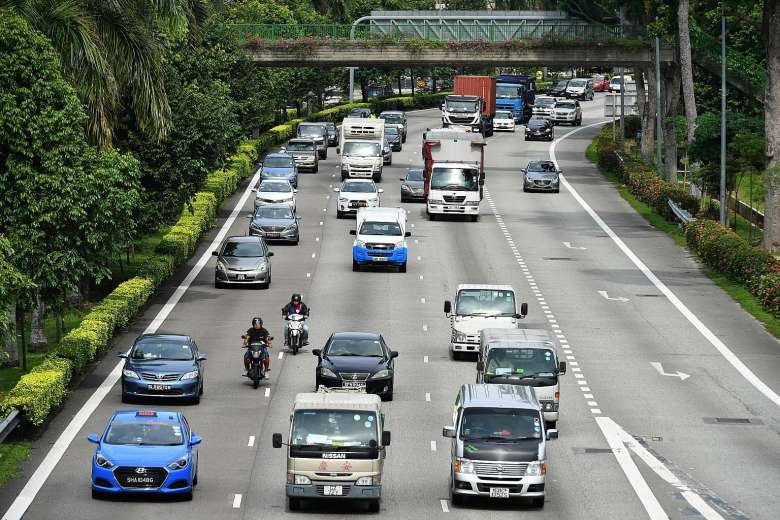car: (286, 400, 383, 505), (94, 407, 197, 504), (455, 398, 550, 502), (474, 338, 568, 429), (121, 334, 208, 404), (316, 334, 397, 401), (447, 289, 529, 355), (213, 238, 272, 293), (354, 218, 409, 276), (247, 204, 302, 246), (335, 175, 383, 219), (248, 180, 299, 217), (398, 165, 432, 206), (259, 152, 299, 186), (282, 141, 319, 174), (523, 161, 560, 193)
two_wheeler: (244, 316, 272, 389), (284, 293, 314, 359)
